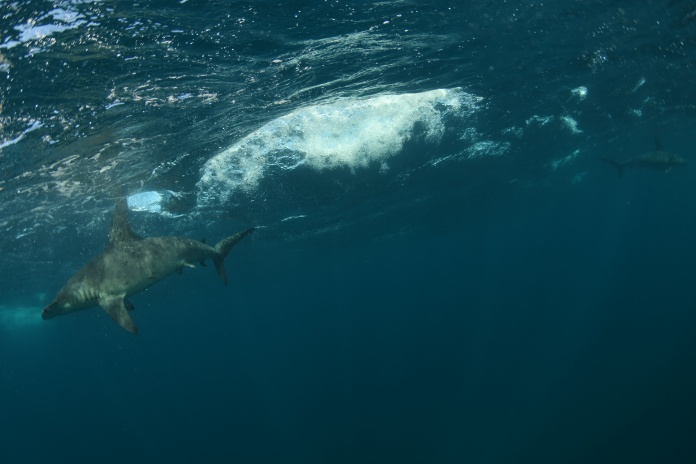Hammer: (30, 199, 259, 346)
